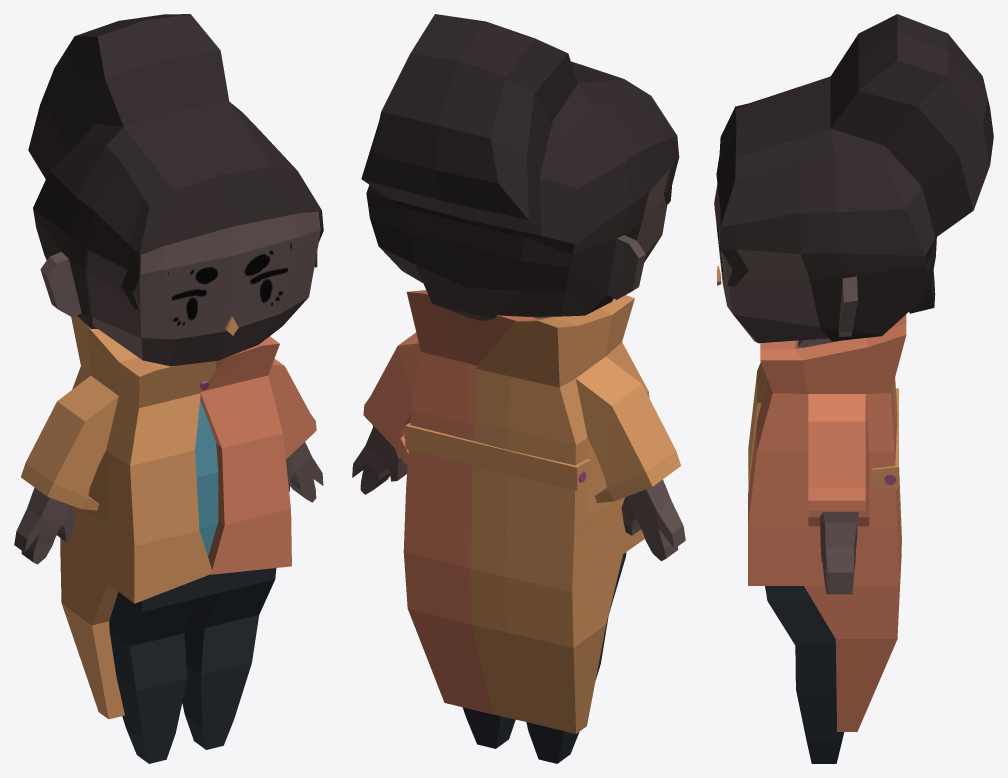
The model's file is Girl 1.fbx.
3 renders of one model, left to right at view 1: azimuth 30°, elevation 25°; view 2: azimuth 150°, elevation 25°; view 3: azimuth 270°, elevation 25°, orthographic. The views are drawn at different scales.
Visible parts, largest first — view 1: Corpo; view 2: Corpo; view 3: Corpo.
Boxes of the visible parts, x1=… form: Corpo: x1=14, y1=14, x2=323, y2=763; Corpo: x1=352, y1=14, x2=685, y2=763; Corpo: x1=714, y1=14, x2=993, y2=763.
Size of the model in its own units: 99.61 by 224 by 79.77.
